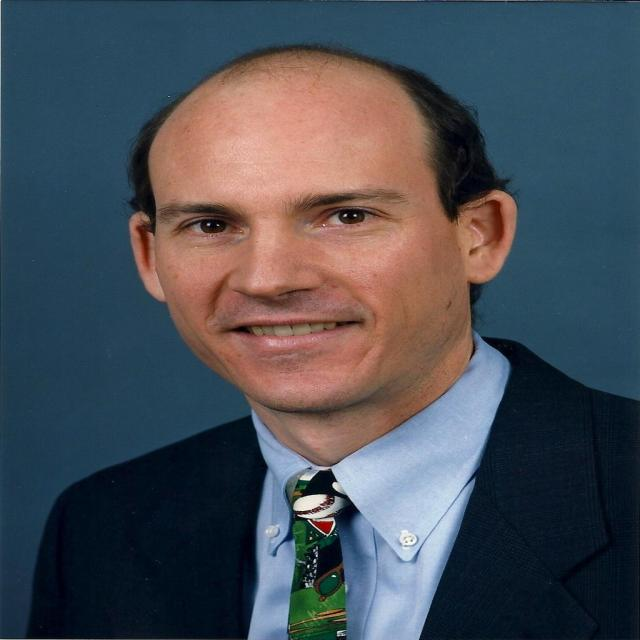nomask: (147, 105, 460, 411)
